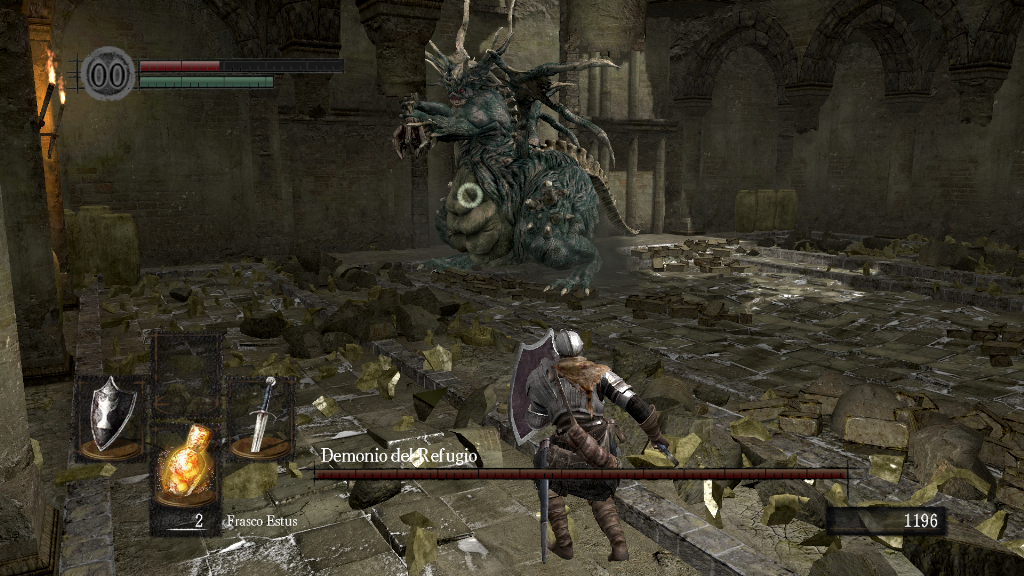asylumDemon: (390, 1, 645, 301)
bossHP: (314, 469, 847, 479)
health: (138, 58, 343, 71)
humanity: (80, 45, 136, 102)
player: (509, 326, 670, 566)
souls: (825, 506, 945, 536)
stamina: (138, 74, 274, 88)
